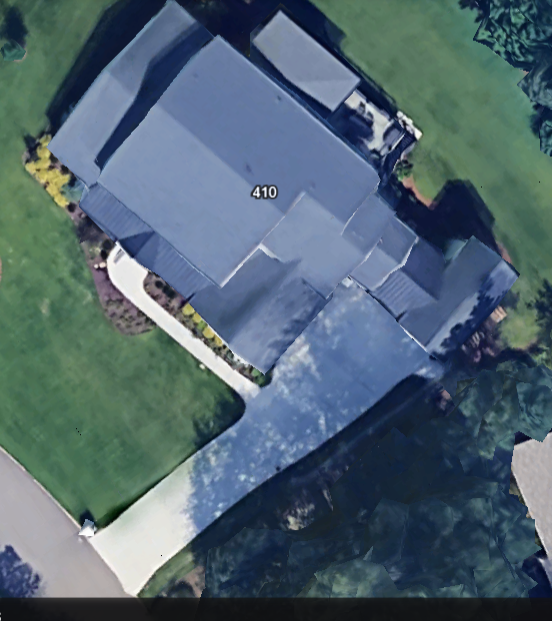driveway: (77, 274, 447, 621)
